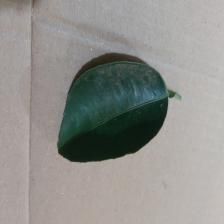healthy: (57, 59, 170, 163)
